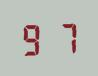nine: (19, 21, 48, 56)
seven: (49, 19, 78, 54)
